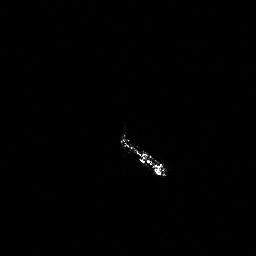ship: (119, 136, 166, 176)
